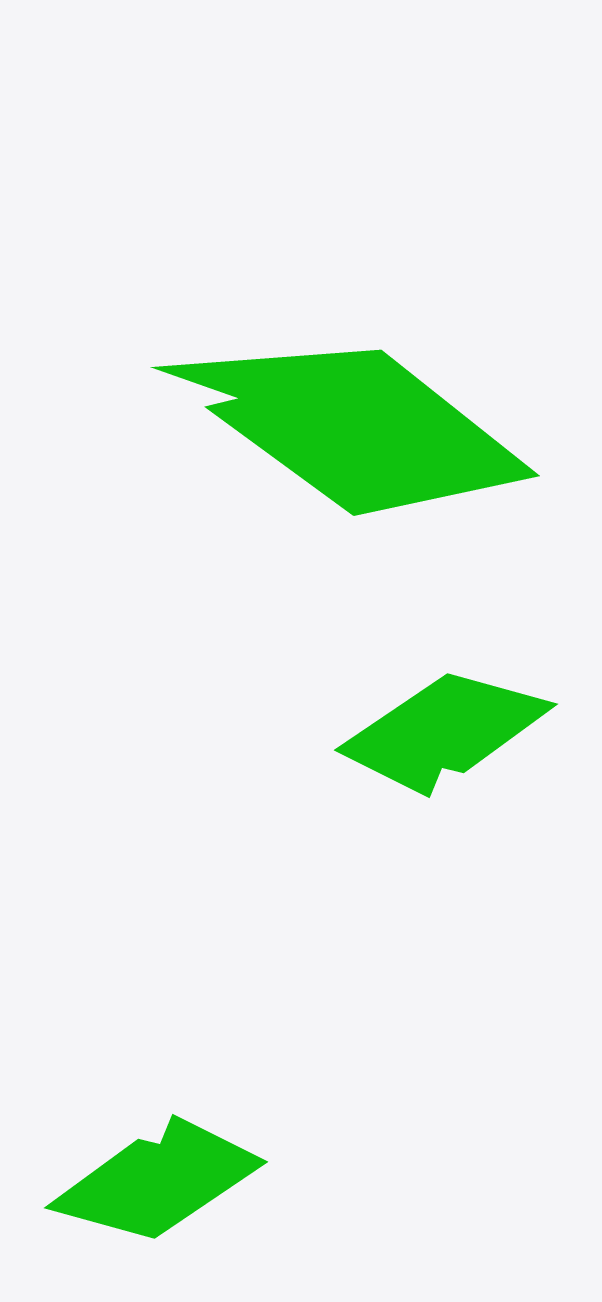
3 renders of one model, top to bottom at view 1: azimuth 30°, elevation 25°; view 2: azimuth 150°, elevation 25°; view 3: azimuth 330°, elevation 25°, orthographic. The views are drawn at different scales.
Size of the model in its own units: 60 by 0 by 296.
